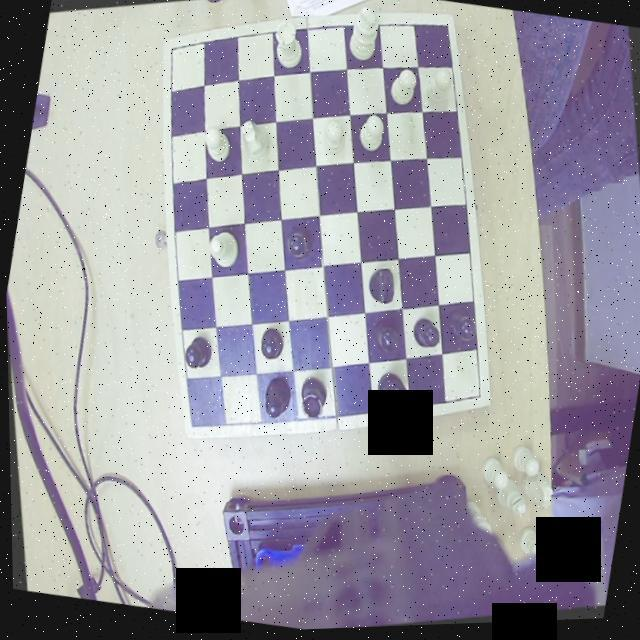chess-table-corners: (178, 407, 210, 441), (432, 14, 460, 48), (460, 384, 490, 415), (162, 34, 188, 64)
